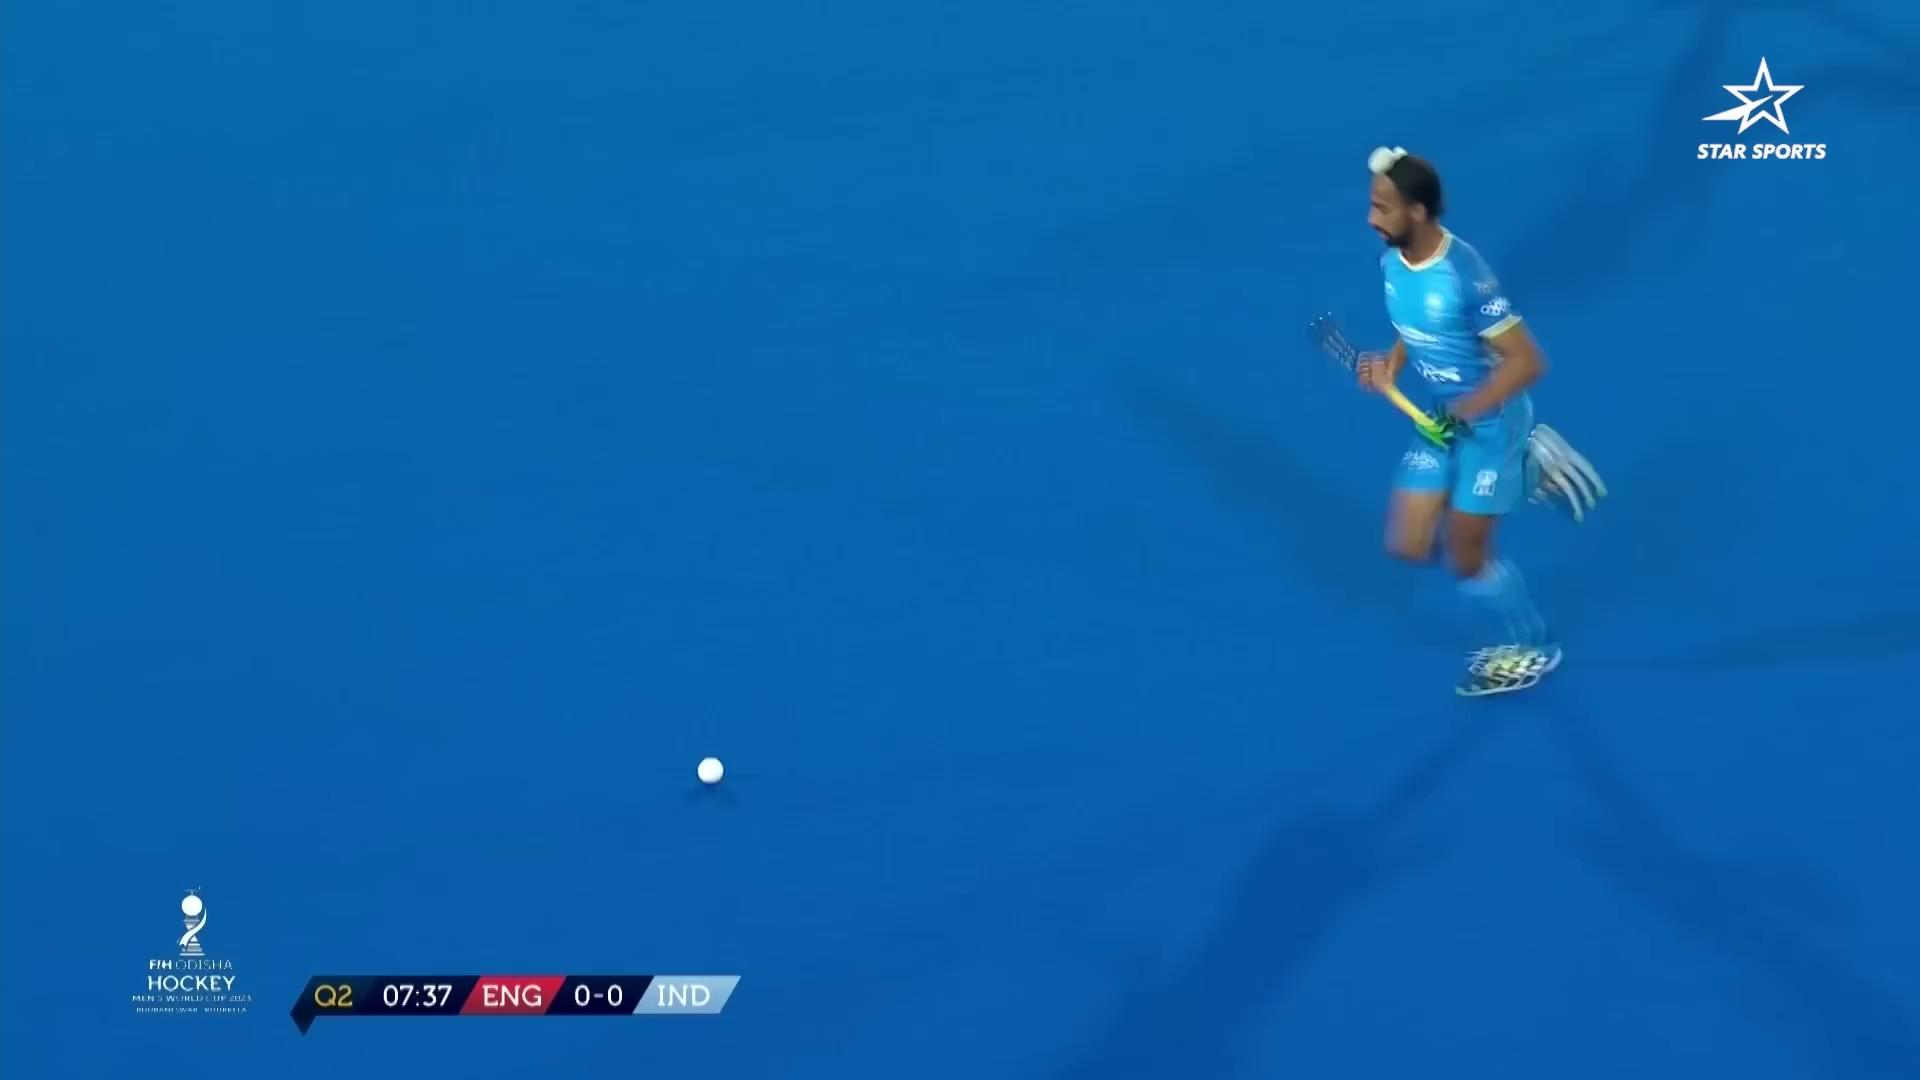ball: (686, 749, 741, 798)
